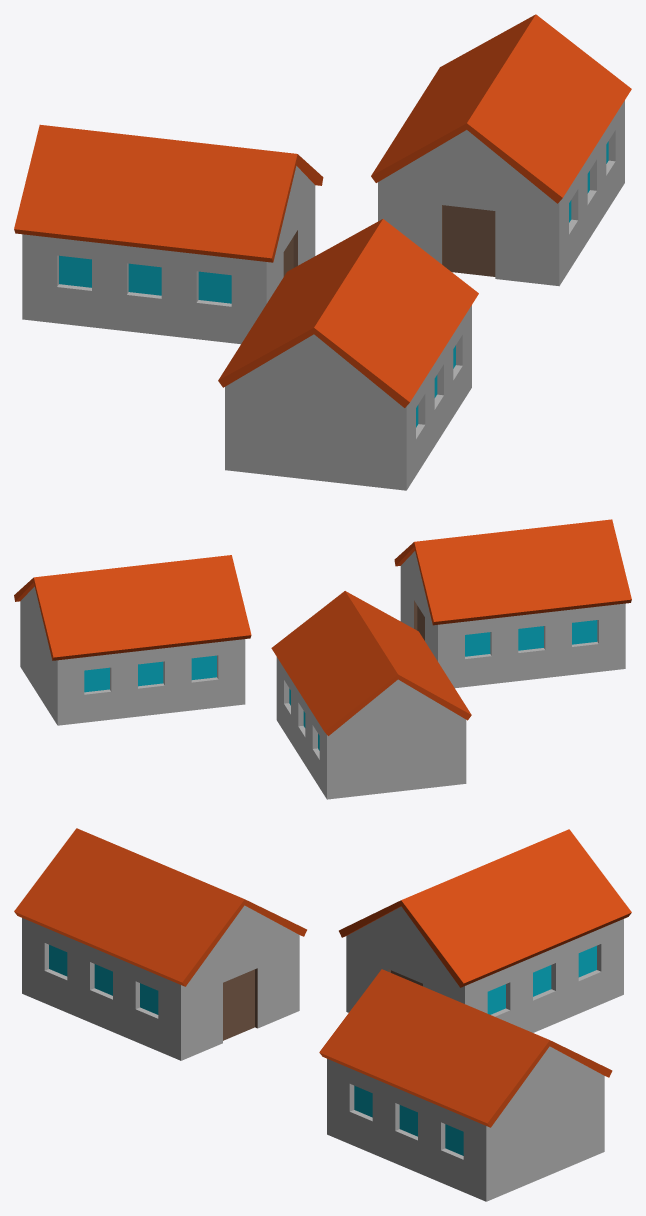
The model's file is smallVillage.fbx.
The picture shows the model from 3 angles, top to bottom: view 1: azimuth 30°, elevation 25°; view 2: azimuth 150°, elevation 25°; view 3: azimuth 270°, elevation 25°; orthographic projection. The views are drawn at different scales.
Visible parts, largest first — view 1: Cube.001, Cube.003, Cube.002; view 2: Cube.002, Cube.003, Cube.001; view 3: Cube.002, Cube.003, Cube.001.
Boxes of the visible parts, bbox=[...] form: Cube.001: bbox=[14, 124, 323, 344]; Cube.003: bbox=[218, 219, 478, 490]; Cube.002: bbox=[371, 14, 631, 286]; Cube.002: bbox=[14, 555, 251, 725]; Cube.003: bbox=[394, 519, 631, 688]; Cube.001: bbox=[271, 591, 471, 799]; Cube.002: bbox=[319, 969, 612, 1201]; Cube.003: bbox=[14, 828, 306, 1060]; Cube.001: bbox=[339, 829, 631, 1032].
Size of the model in its own units: 749 by 183 by 738.
